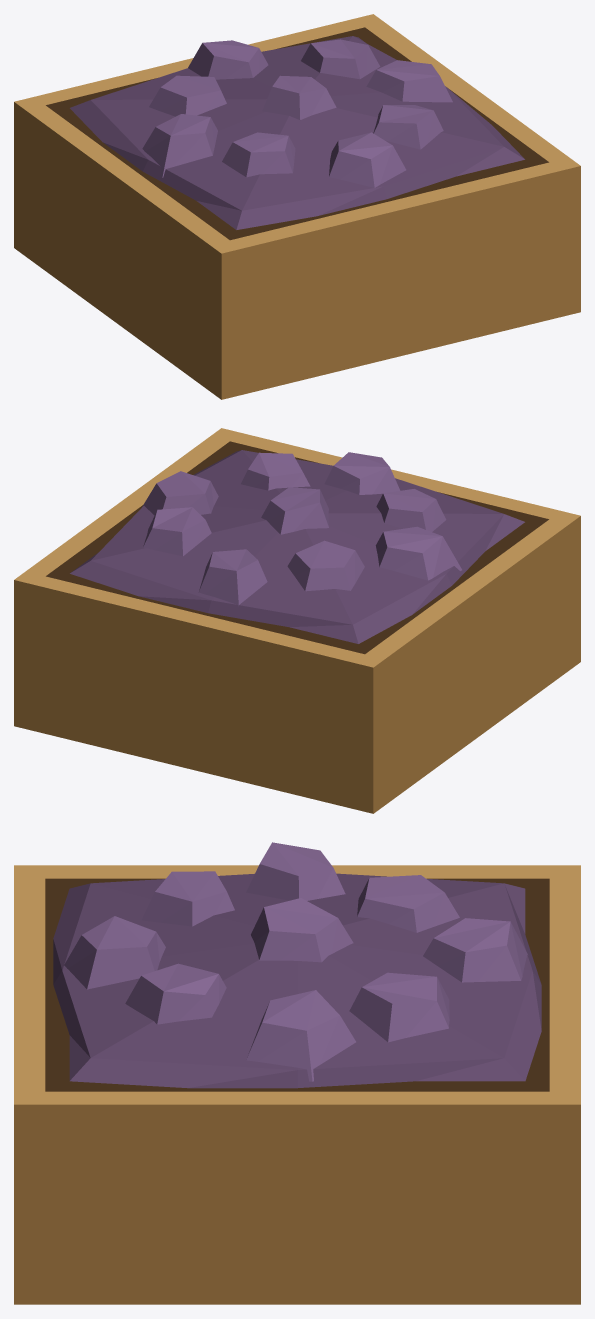
The model's file is item_produce_berries_a.obj.
The picture shows the model from 3 angles, top to bottom: view 1: azimuth 30°, elevation 25°; view 2: azimuth 150°, elevation 25°; view 3: azimuth 270°, elevation 25°; orthographic projection. The views are drawn at different scales.
Size of the model in its own units: 0.5724 by 0.3019 by 0.5724.
